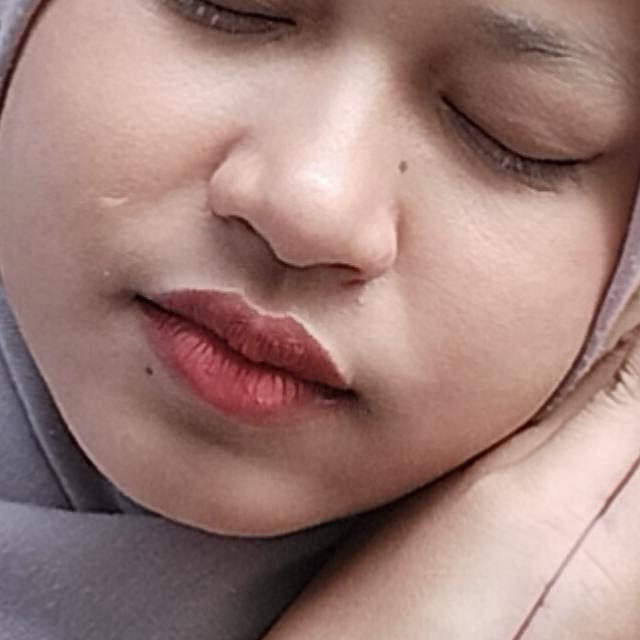tidur: (0, 38, 640, 640)
